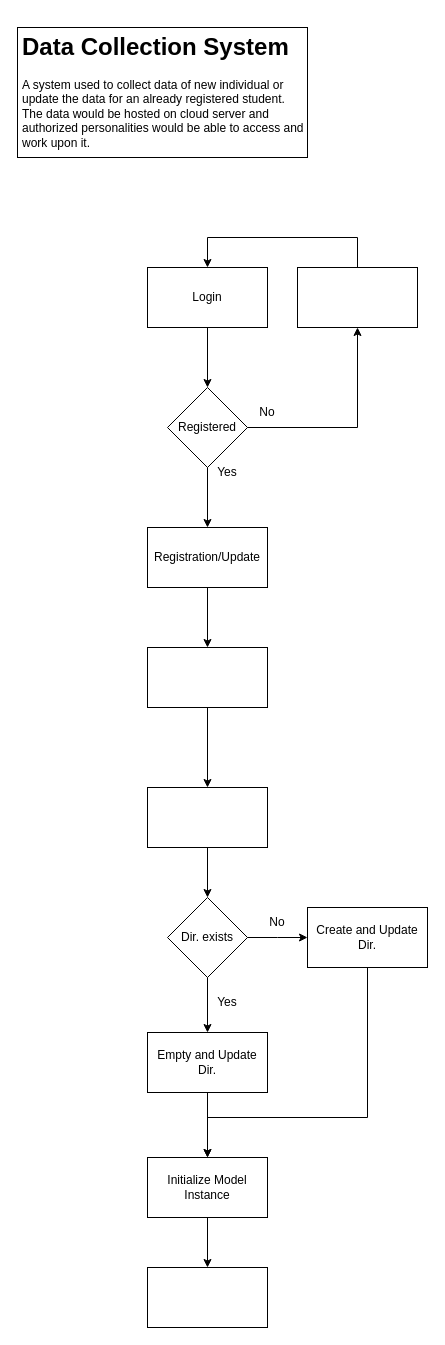
Image size: 445x1345. Some labels were removed from this diagram. Here are the shapes that lost their labels. From the top down, the box of each, then its label:
(296, 266, 418, 328): Create Account
(146, 646, 268, 708): Collect Image Data and Enrollment Number
(146, 786, 268, 848): Retrieve Student Information
(146, 1266, 268, 1328): Train Model & save data
